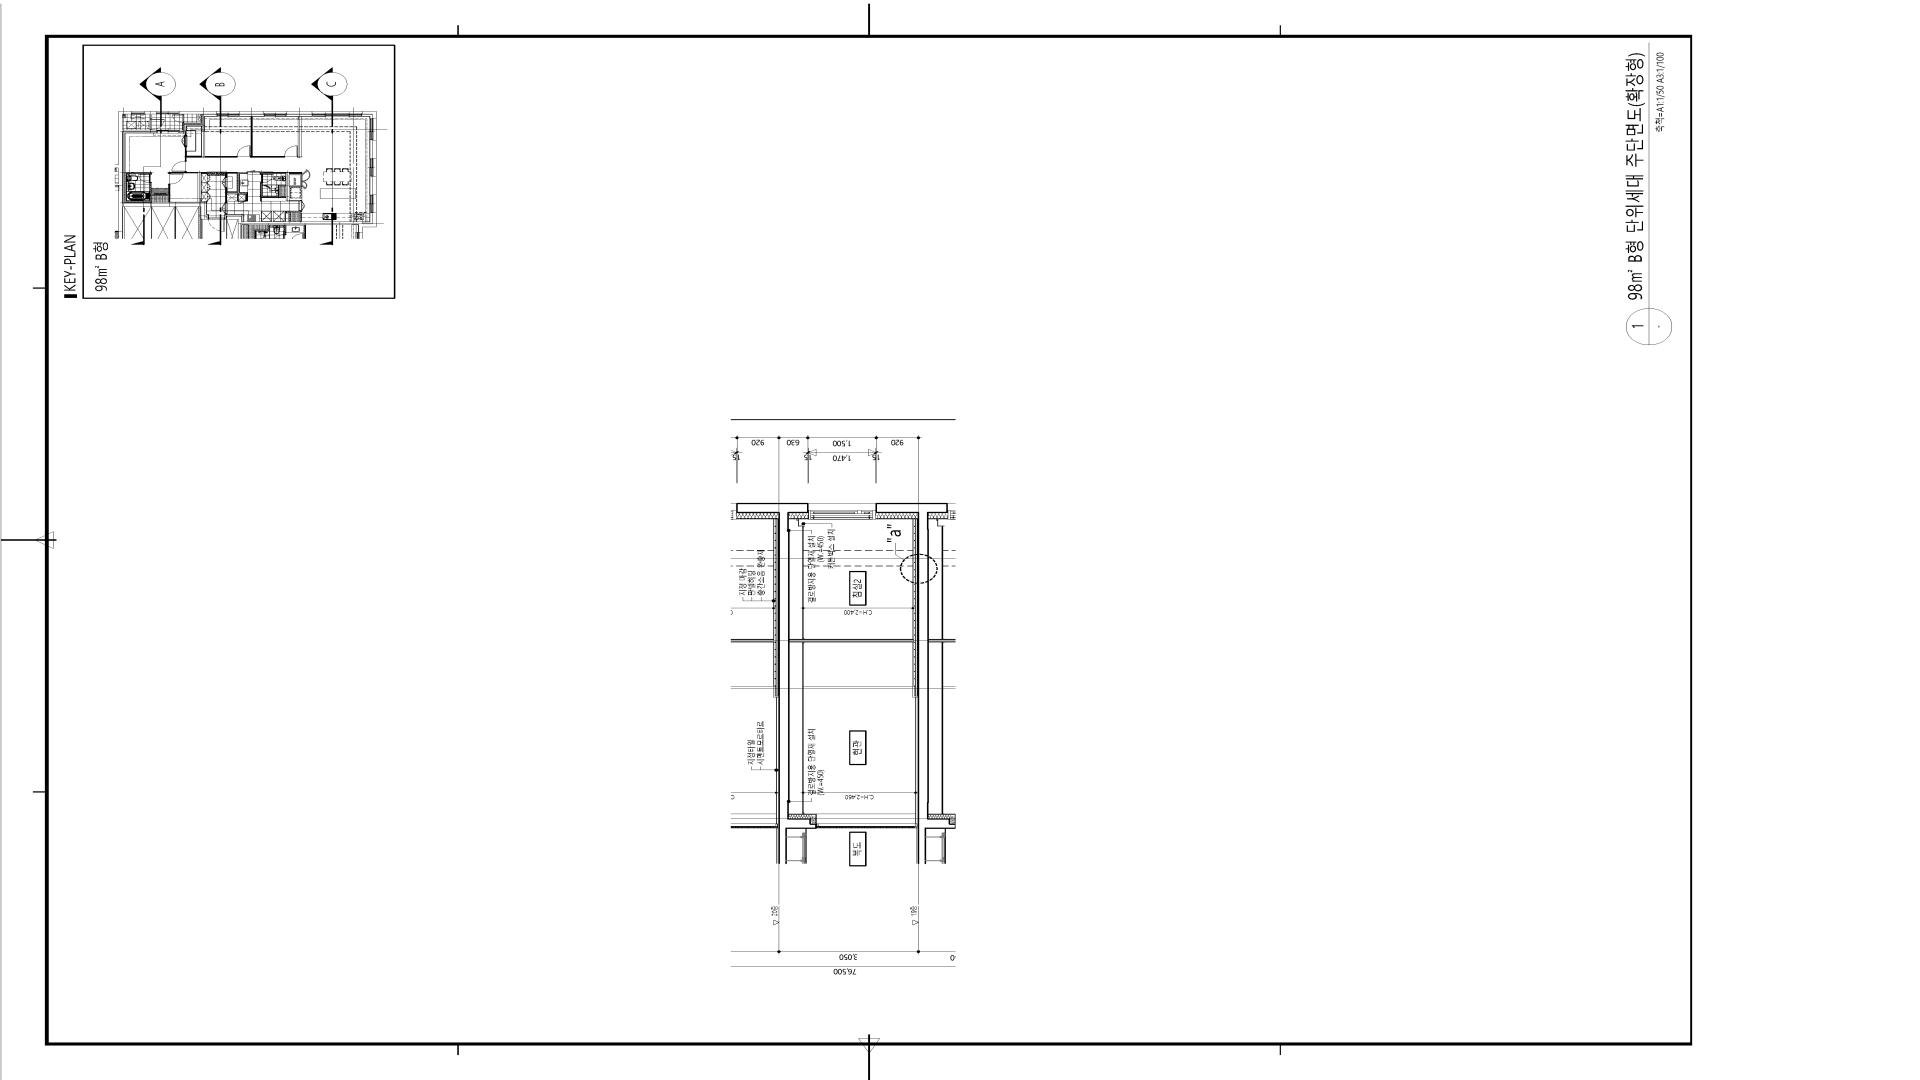door: (816, 814, 918, 828)
wall: (876, 502, 928, 829), (778, 502, 816, 829), (789, 638, 918, 642)
window: (808, 502, 876, 520)
